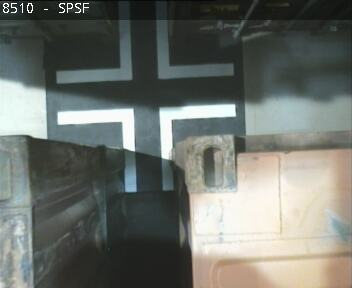groundmarker_1: (57, 102, 237, 189), (56, 4, 233, 84)
